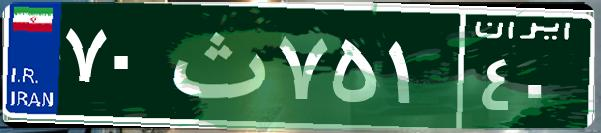0: (110, 28, 158, 105), (525, 38, 570, 115)
1: (385, 28, 445, 110)
4: (475, 38, 525, 113)
5: (330, 28, 385, 110)
7: (273, 28, 330, 110), (57, 26, 110, 107)
ث: (158, 15, 273, 115)
